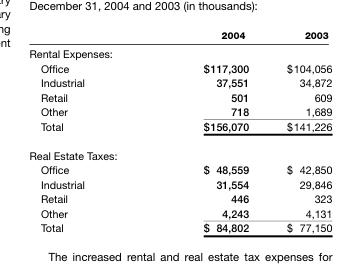table: (28, 29, 331, 233)
table column: (143, 29, 267, 233), (28, 29, 143, 233), (267, 29, 331, 233)
table column header: (28, 29, 331, 43)
table projected row header: (28, 140, 331, 161), (28, 43, 331, 60)
table row: (28, 118, 331, 140), (28, 140, 331, 161), (28, 43, 331, 60), (28, 74, 331, 89), (28, 103, 331, 118), (28, 161, 331, 176), (28, 176, 331, 191), (28, 205, 331, 220), (28, 29, 331, 43), (28, 60, 331, 74), (28, 89, 331, 103), (28, 191, 331, 205), (28, 220, 331, 233)
